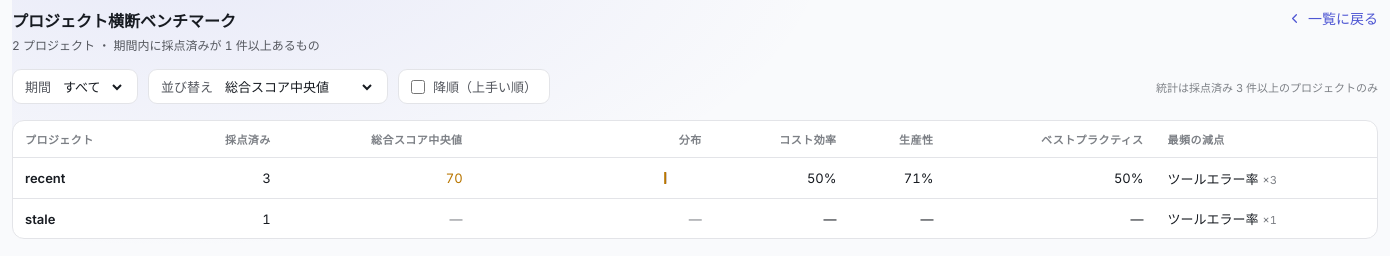
Benchmark › 期間フィルタで再集計し、期間外のみのプロジェクトが消える
Select "7 日" in the dropdown showing "すべて" at (92, 86), box x1=59 y1=78 x2=125 y2=96
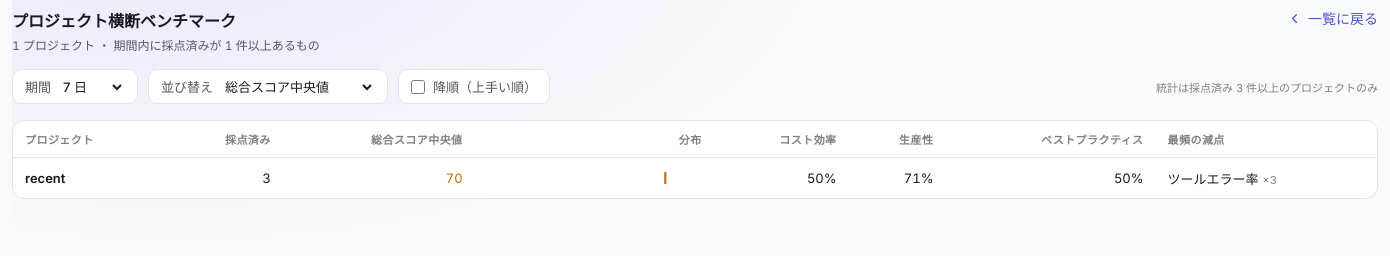
Expected: the link "recent" is shown, x1=25 y1=170 x2=65 y2=186
Now the link "stale" is gone
